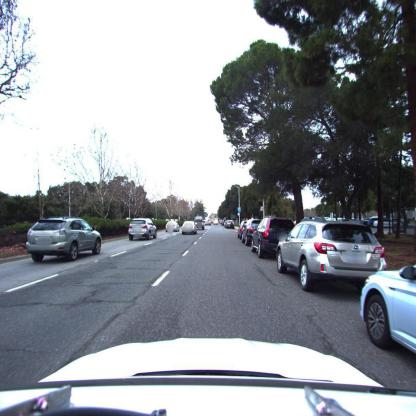car: (275, 218, 388, 294), (360, 235, 416, 382), (27, 218, 103, 263), (252, 218, 297, 260), (130, 219, 158, 240), (240, 219, 261, 243), (238, 220, 250, 240), (182, 221, 198, 234), (166, 219, 180, 233), (194, 218, 204, 230), (225, 220, 234, 228)
